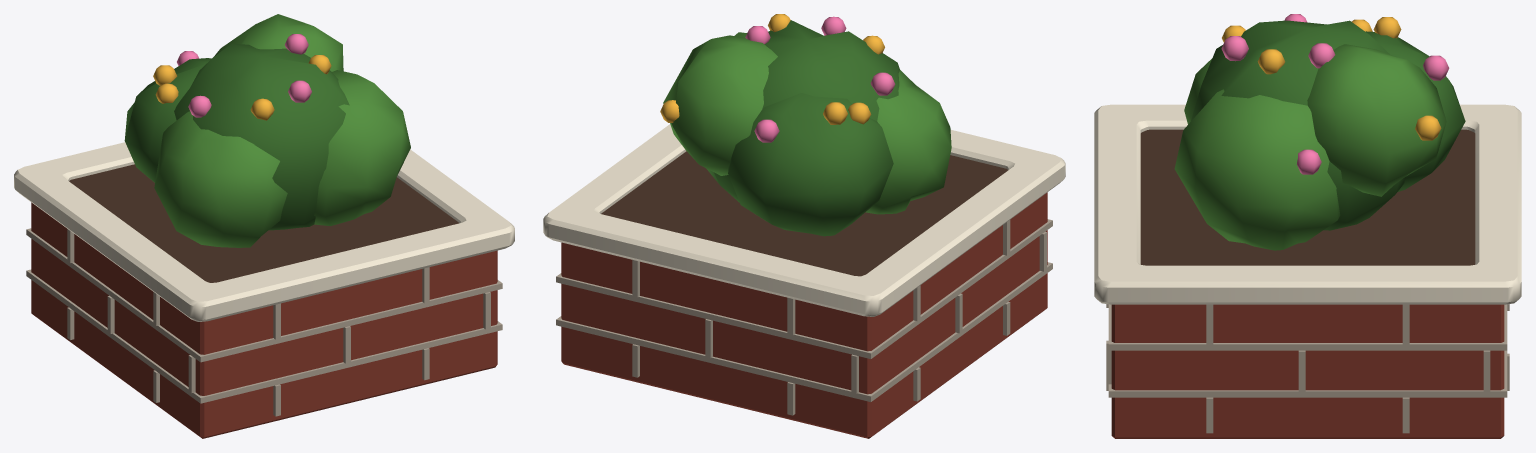
File: Lobby_Planter.fbx
3 renders of one model, left to right at view 1: azimuth 30°, elevation 25°; view 2: azimuth 150°, elevation 25°; view 3: azimuth 270°, elevation 25°, orthographic. The views are drawn at different scales.
Visible parts, largest first — view 1: Brick, Cap, ShrubLight, ShrubDark, Soil, Mortar, FlowersMustard, FlowersPink; view 2: Brick, Cap, ShrubDark, Soil, ShrubLight, Mortar, FlowersMustard, FlowersPink; view 3: Brick, ShrubLight, Cap, Soil, ShrubDark, Mortar, FlowersPink, FlowersMustard.
Boxes of the visible parts, x1=… form: Brick: x1=31, y1=202, x2=497, y2=438; Cap: x1=14, y1=142, x2=514, y2=321; ShrubLight: x1=154, y1=14, x2=410, y2=247; ShrubDark: x1=124, y1=43, x2=349, y2=230; Soil: x1=69, y1=164, x2=459, y2=282; Mortar: x1=26, y1=228, x2=502, y2=416; FlowersMustard: x1=153, y1=55, x2=331, y2=120; FlowersPink: x1=177, y1=34, x2=311, y2=117; Brick: x1=561, y1=192, x2=1047, y2=438; Cap: x1=543, y1=124, x2=1065, y2=316; ShrubDark: x1=706, y1=20, x2=899, y2=236; Soil: x1=601, y1=151, x2=1007, y2=276; ShrubLight: x1=663, y1=32, x2=951, y2=214; Mortar: x1=556, y1=219, x2=1052, y2=415; FlowersMustard: x1=660, y1=14, x2=884, y2=124; FlowersPink: x1=745, y1=16, x2=895, y2=142; Brick: x1=1111, y1=304, x2=1504, y2=438; ShrubLight: x1=1174, y1=44, x2=1446, y2=250; Cap: x1=1094, y1=104, x2=1521, y2=304; Soil: x1=1140, y1=129, x2=1475, y2=265; ShrubDark: x1=1191, y1=20, x2=1465, y2=230; Mortar: x1=1106, y1=304, x2=1509, y2=433; FlowersPink: x1=1221, y1=14, x2=1449, y2=174; FlowersMustard: x1=1222, y1=17, x2=1441, y2=140.
Bounding box in the file's own units: 370 × 321 × 370.
